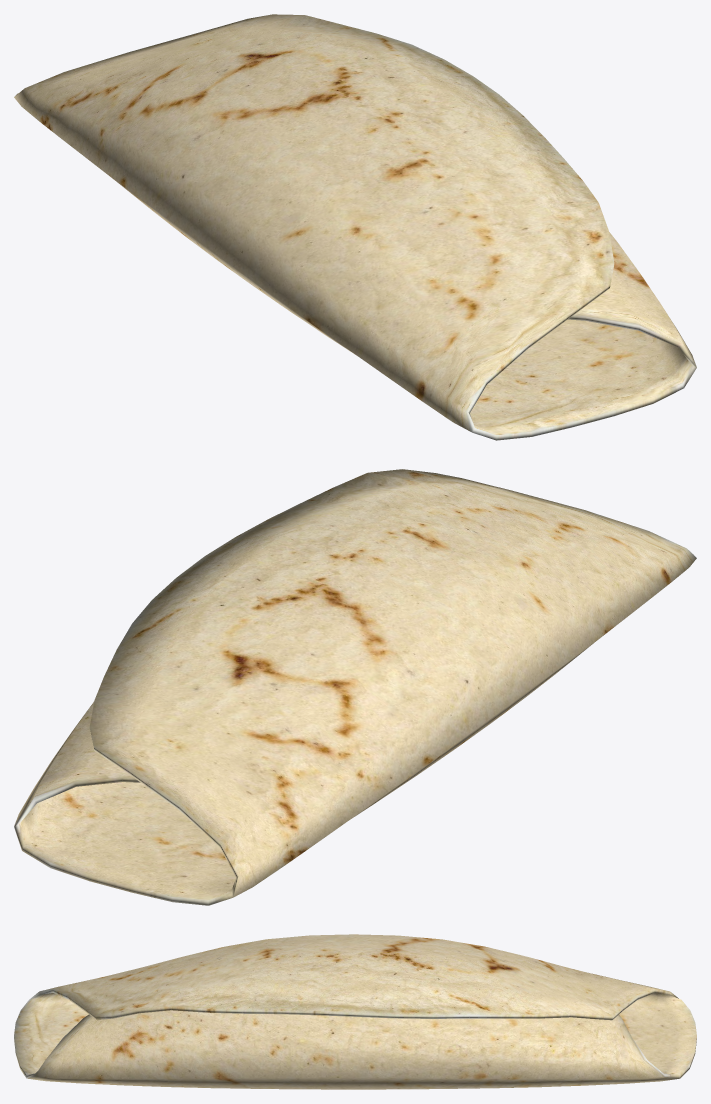
Rendered from tortilla.glb.
The picture shows the model from 3 angles, top to bottom: view 1: azimuth 30°, elevation 25°; view 2: azimuth 150°, elevation 25°; view 3: azimuth 270°, elevation 25°; orthographic projection. The views are drawn at different scales.
Parts seen in each view (by area): view 1: CircleShape_2_0; view 2: CircleShape_2_0; view 3: CircleShape_2_0.
Boxes of the visible parts, bbox=[...] form: CircleShape_2_0: bbox=[14, 14, 696, 440]; CircleShape_2_0: bbox=[14, 469, 696, 905]; CircleShape_2_0: bbox=[14, 934, 696, 1089].
Size of the model in its own units: 0.213 by 0.0832 by 0.5287.
Materials: 1 (1 with a texture image).
